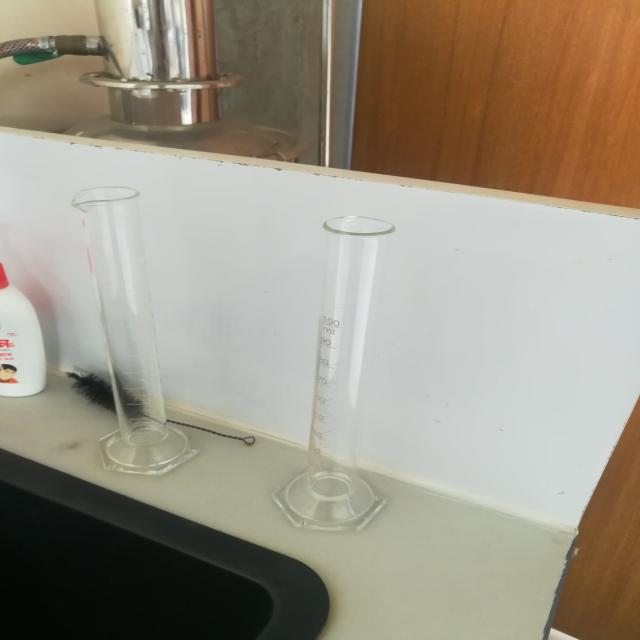Measuring_Cylinder: (33, 158, 244, 508), (276, 184, 411, 572)
